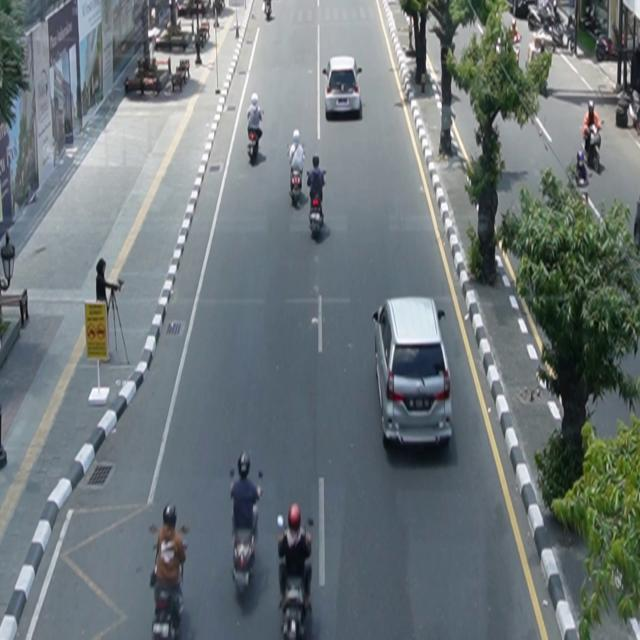car: (373, 296, 454, 451), (323, 56, 364, 120)
